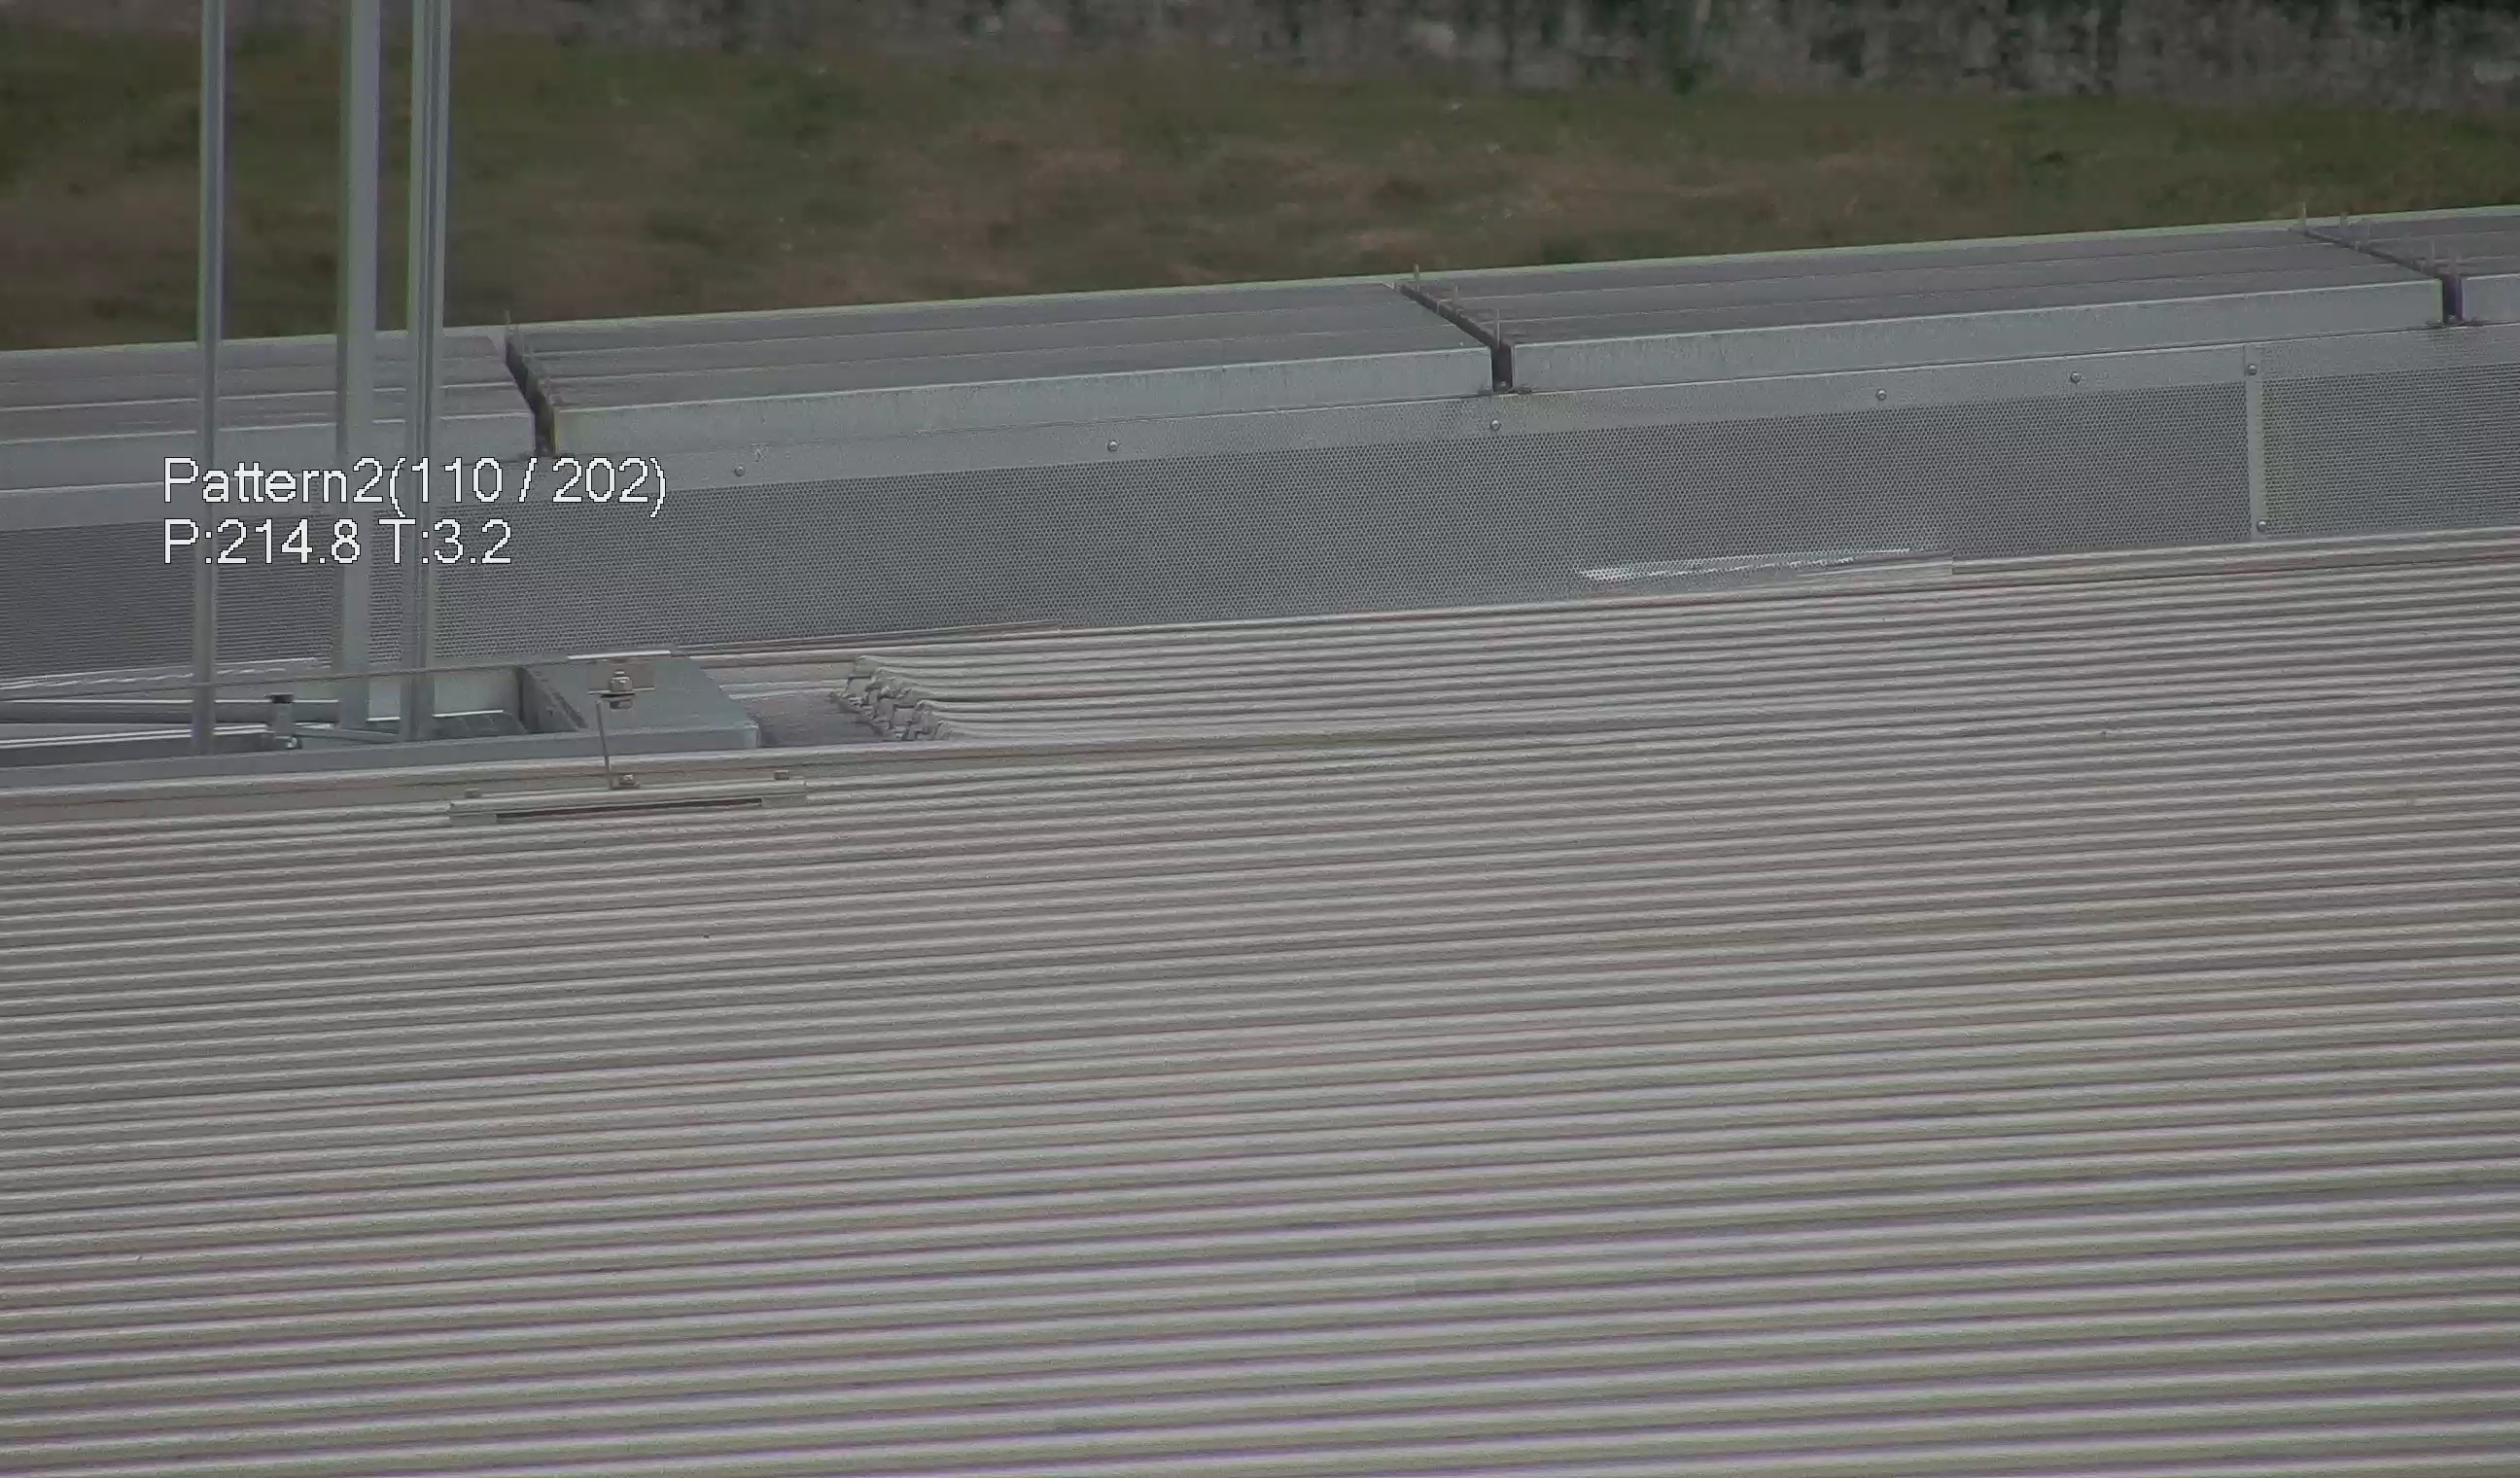Other: (462, 326, 563, 484)
